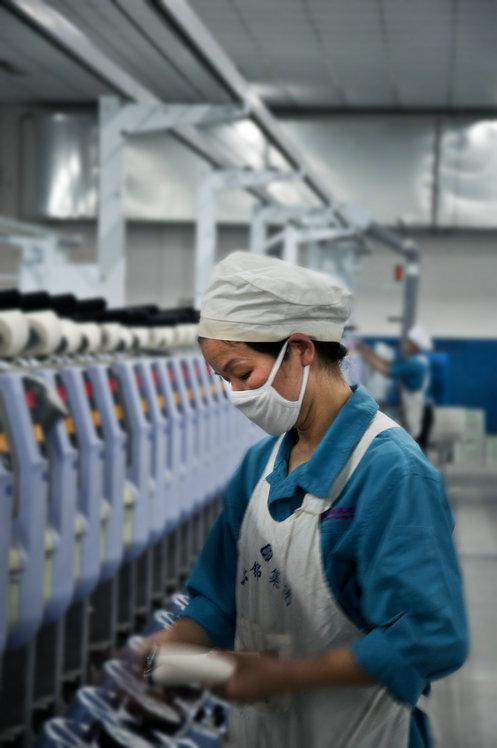OK: (220, 350, 310, 440)
